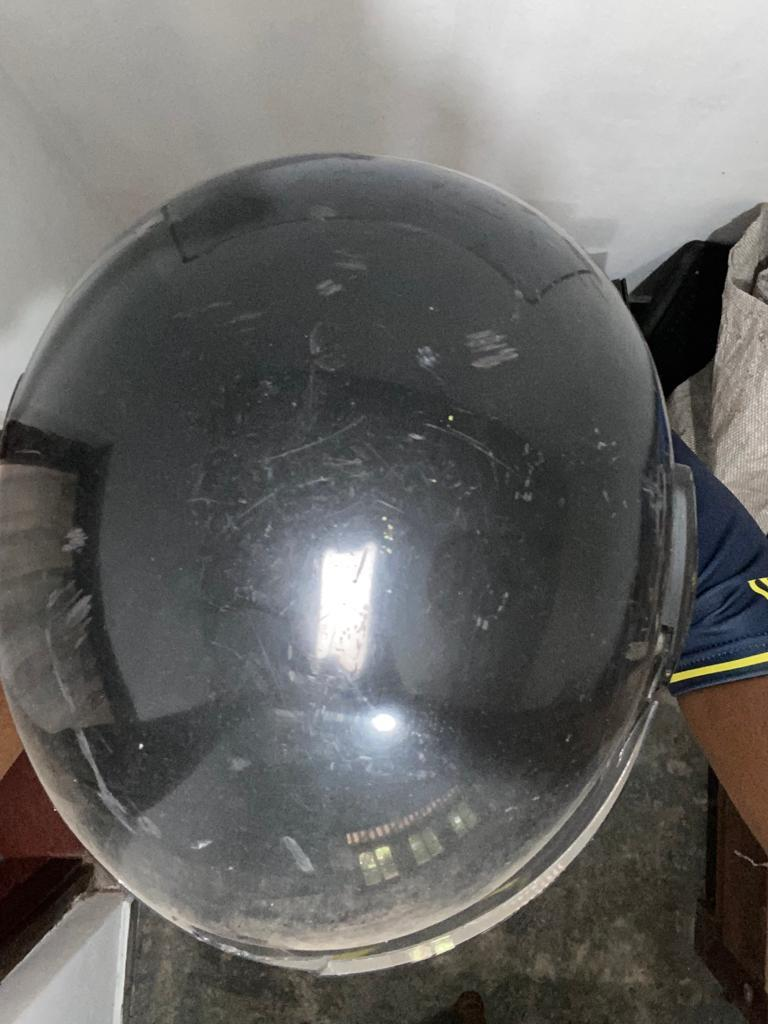helmet: (0, 151, 701, 975)
